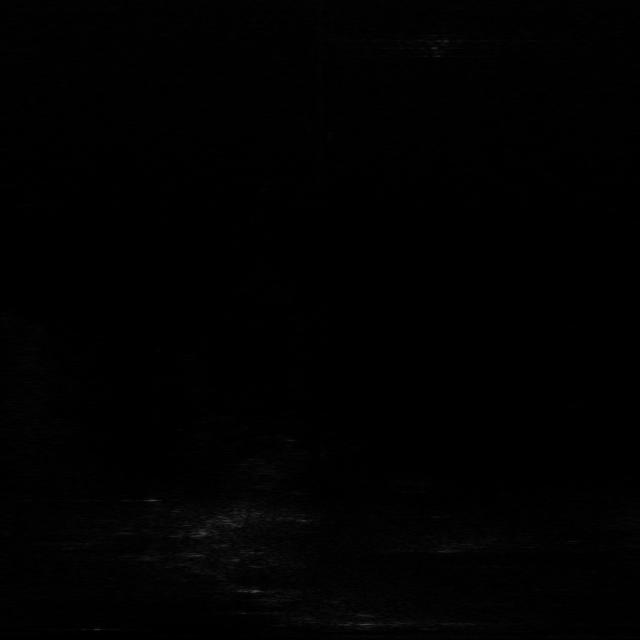rov: (417, 31, 463, 59)
